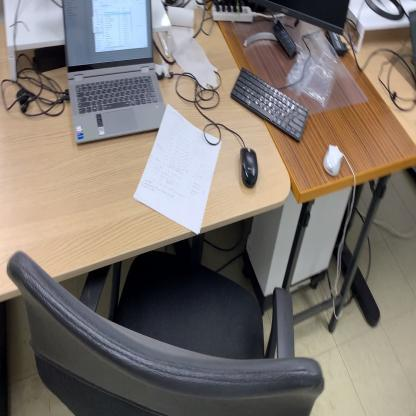chair: (9, 251, 324, 415)
